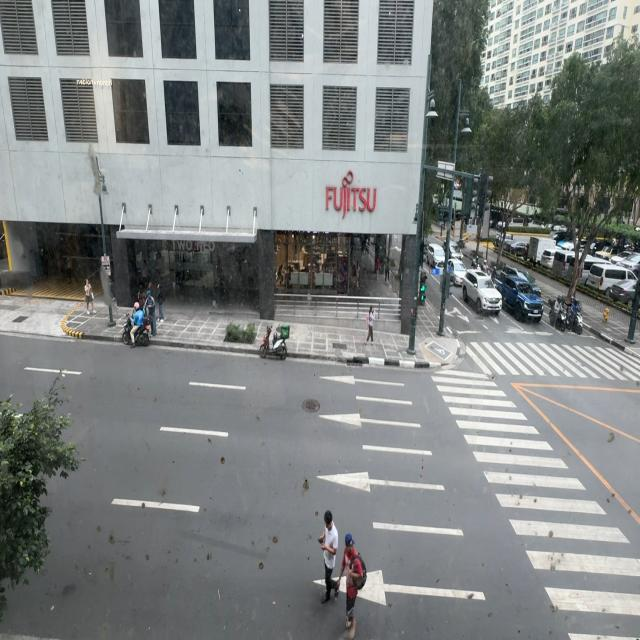jaywalking: (336, 533, 364, 629), (318, 511, 338, 600)
pedestrain: (85, 280, 96, 316), (156, 280, 165, 324), (364, 306, 374, 345)
